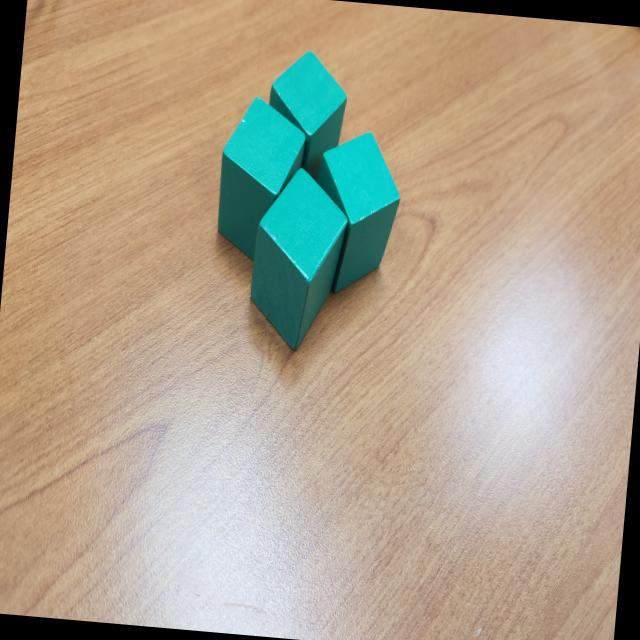green: (245, 163, 352, 354), (297, 128, 405, 297), (212, 92, 310, 265), (262, 46, 352, 184)
